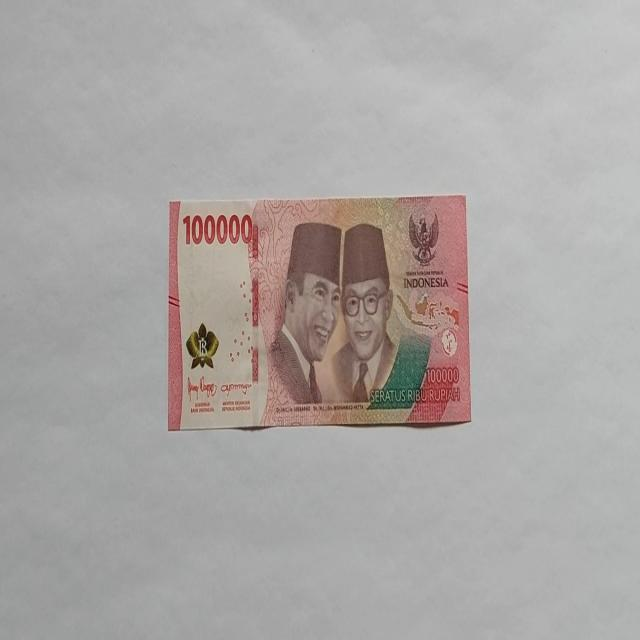seratus ribu rupiah: (166, 195, 472, 432), (260, 220, 342, 425)
